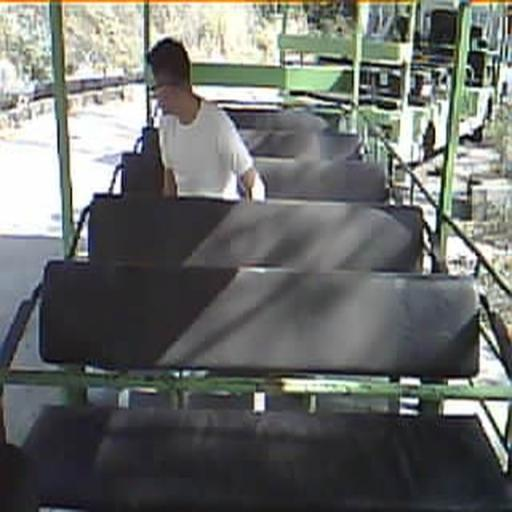persona: (144, 36, 264, 204)
